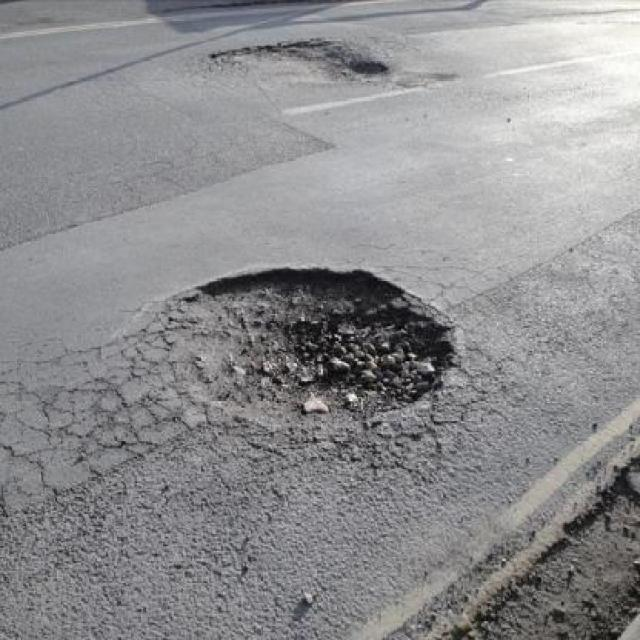Pothole: (100, 249, 478, 423), (198, 31, 397, 89)
